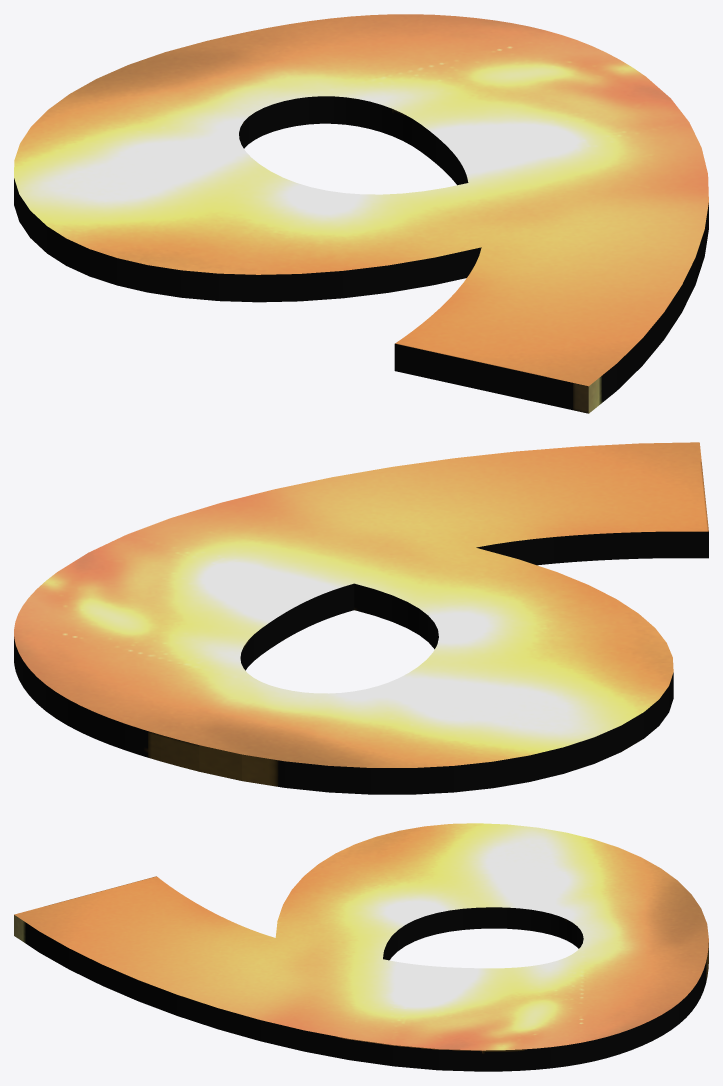
Rendered from Number9.fbx.
3 renders of one model, top to bottom at view 1: azimuth 30°, elevation 25°; view 2: azimuth 150°, elevation 25°; view 3: azimuth 270°, elevation 25°, orthographic. The views are drawn at different scales.
Visible parts, largest first — view 1: 9; view 2: 9; view 3: 9.
Part boxes in pixels (left/top/right/bottom): 9: left=14, top=14, right=708, bottom=413; 9: left=14, top=442, right=708, bottom=794; 9: left=14, top=823, right=708, bottom=1071.
Bounding box in the file's own units: 1.3 × 0.0566 × 1.68.
Materials: 1 (1 with a texture image).
